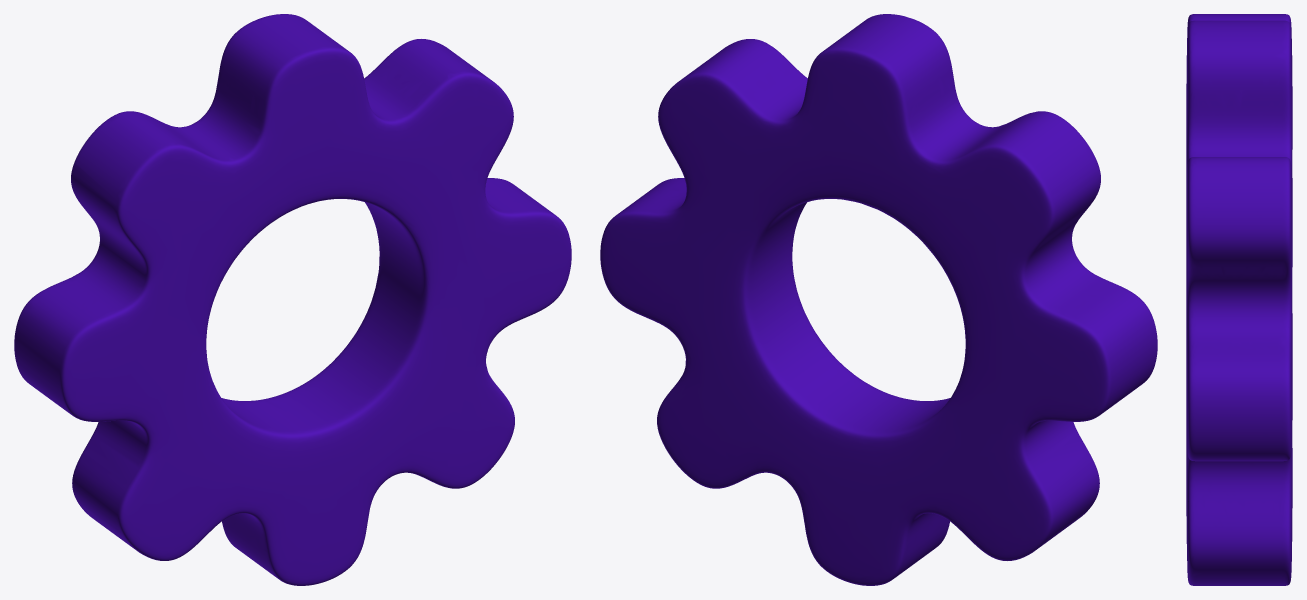
File: setting.glb
3 views of the same model, side by side, from view 1: azimuth 30°, elevation 25°; view 2: azimuth 150°, elevation 25°; view 3: azimuth 270°, elevation 25° (orthographic).
Visible parts, largest first — view 1: Circle; view 2: Circle; view 3: Circle.
Part boxes in pixels (left/top/right/bottom): Circle: left=14, top=14, right=571, bottom=585; Circle: left=600, top=14, right=1157, bottom=585; Circle: left=1186, top=14, right=1292, bottom=585.
Size of the model in its own units: 1.9 by 1.9 by 0.3376.
